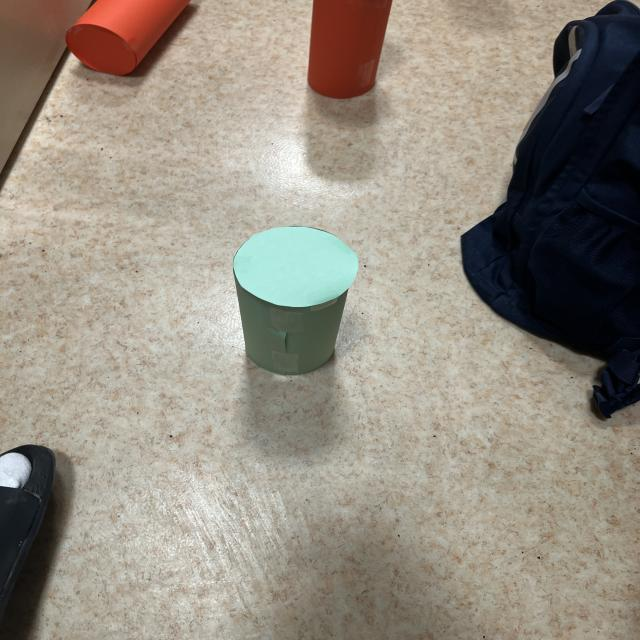meta: (233, 226, 358, 375)
przeszkoda: (66, 0, 190, 75), (308, 0, 392, 99)
